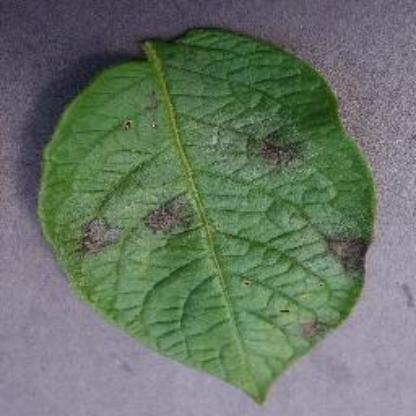Late-Blight: (17, 22, 407, 396)
